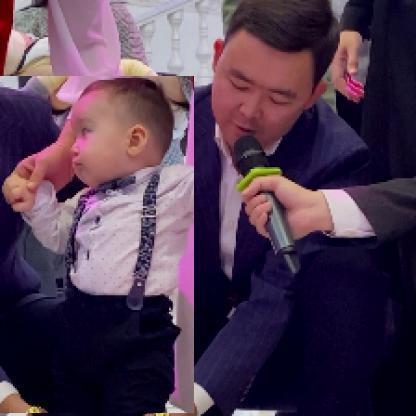child: (1, 77, 196, 415)
